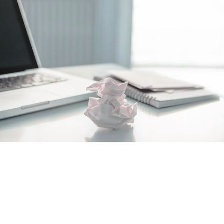book: (92, 61, 222, 109), (71, 73, 138, 135)
